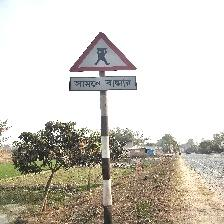Market-in-front: (69, 32, 138, 92)
